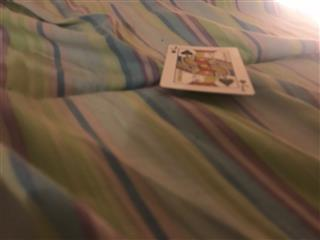JackOfSpades: (158, 43, 256, 97)
